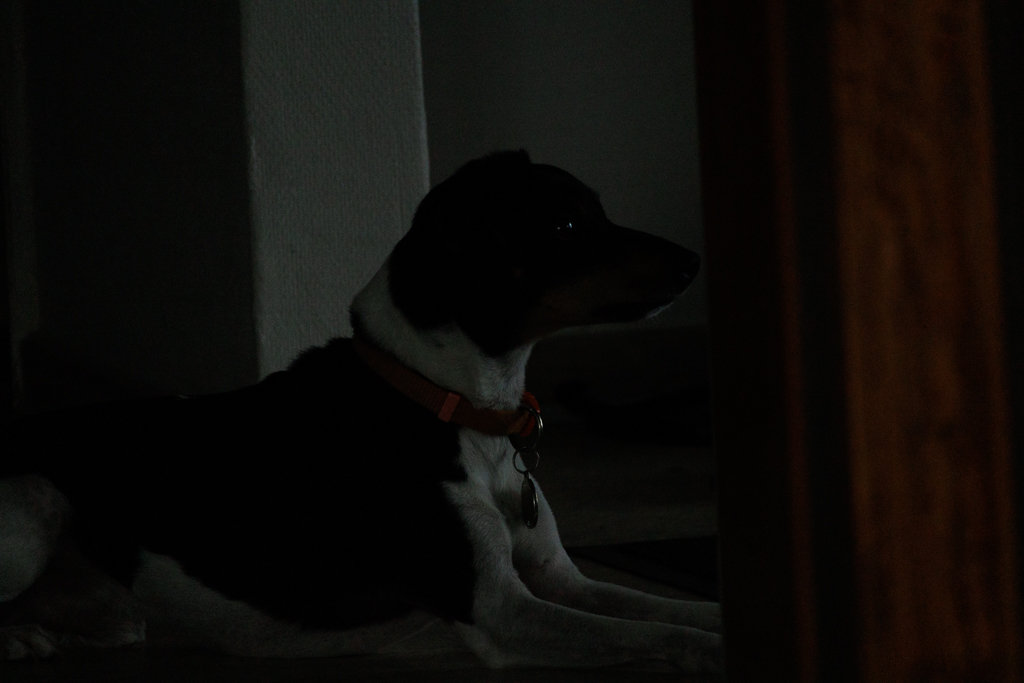Dog: (0, 141, 731, 683)
